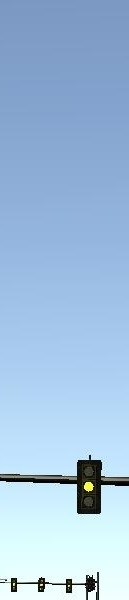Yellow: (75, 460, 102, 514)
